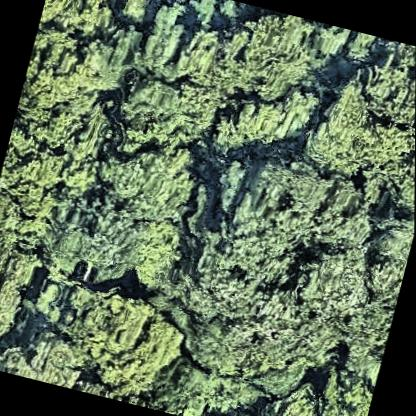tree-top: (156, 143, 391, 401), (288, 25, 416, 201), (54, 273, 197, 409), (65, 139, 175, 290), (209, 62, 329, 170), (215, 1, 322, 108), (0, 195, 47, 372), (0, 318, 94, 391), (302, 359, 378, 416), (257, 375, 333, 416), (113, 0, 162, 25)
